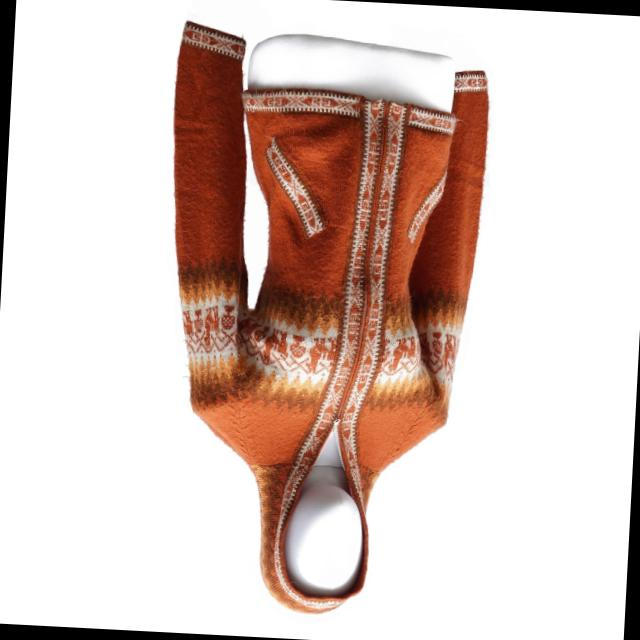Chompa: (148, 22, 494, 623)
